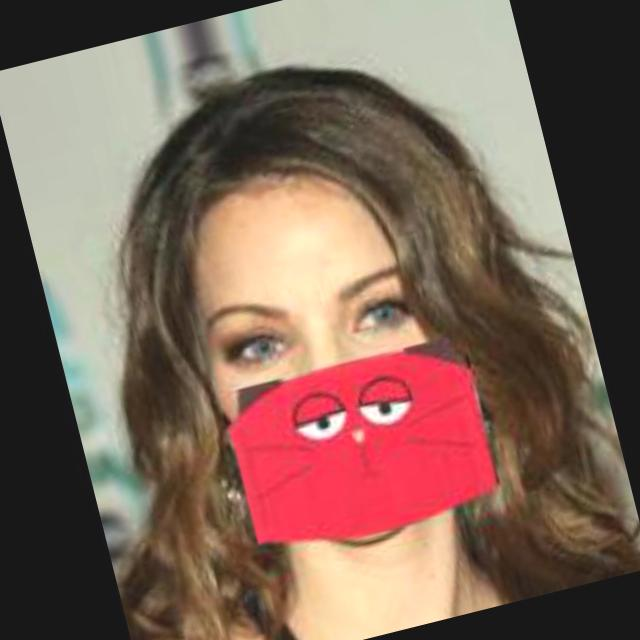suspicion: (60, 41, 538, 612)
